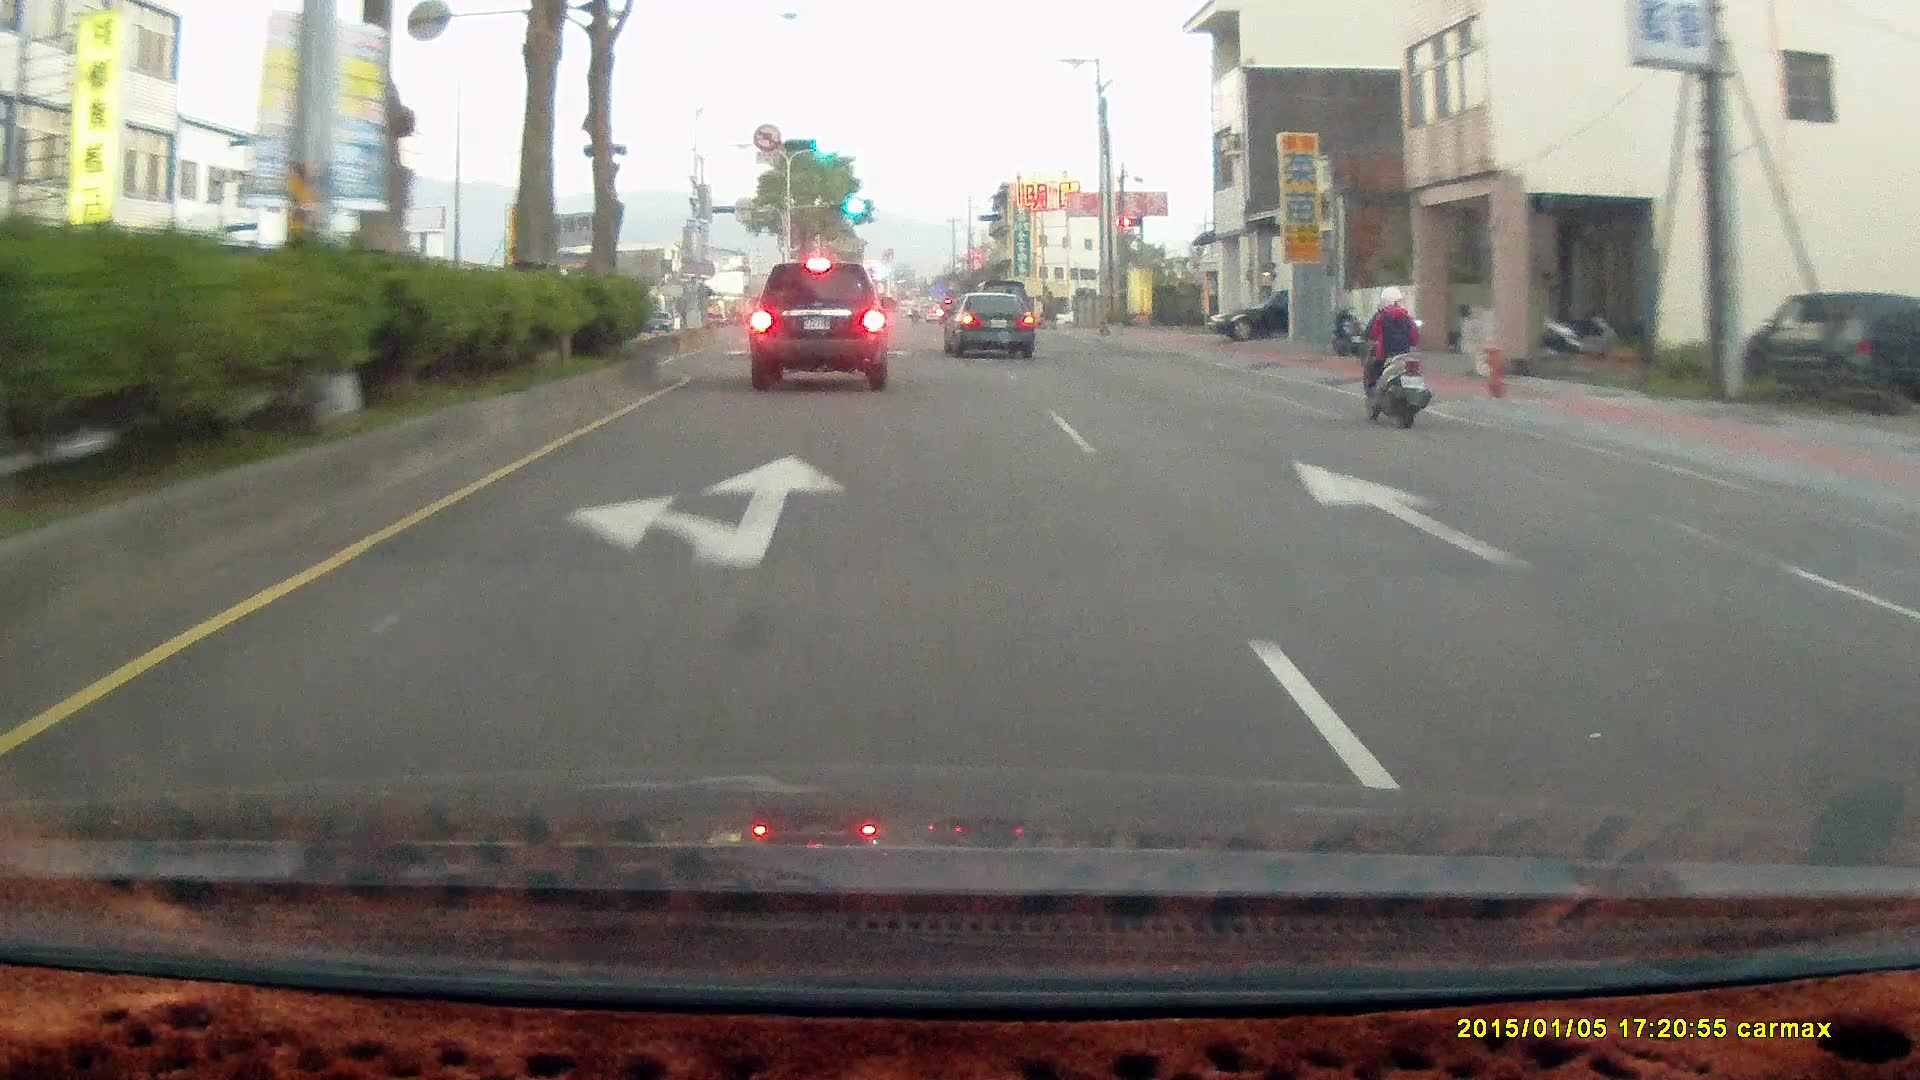rider: (1341, 276, 1447, 439), (1356, 288, 1431, 437)
vehicle: (1742, 291, 1920, 405), (746, 260, 892, 394), (1750, 288, 1916, 403), (749, 263, 896, 391), (1207, 288, 1362, 343), (946, 291, 1040, 359), (942, 290, 1034, 356), (1207, 289, 1294, 345)
